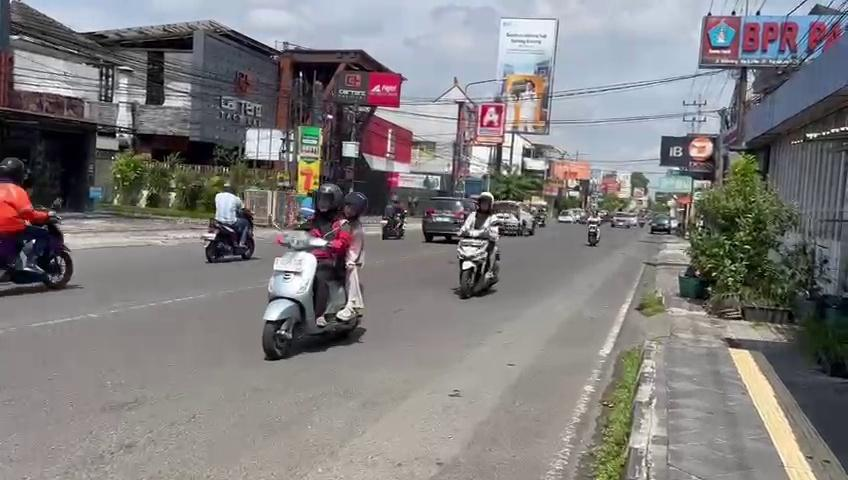helm: (310, 180, 345, 219)
riding: (255, 172, 375, 366)
